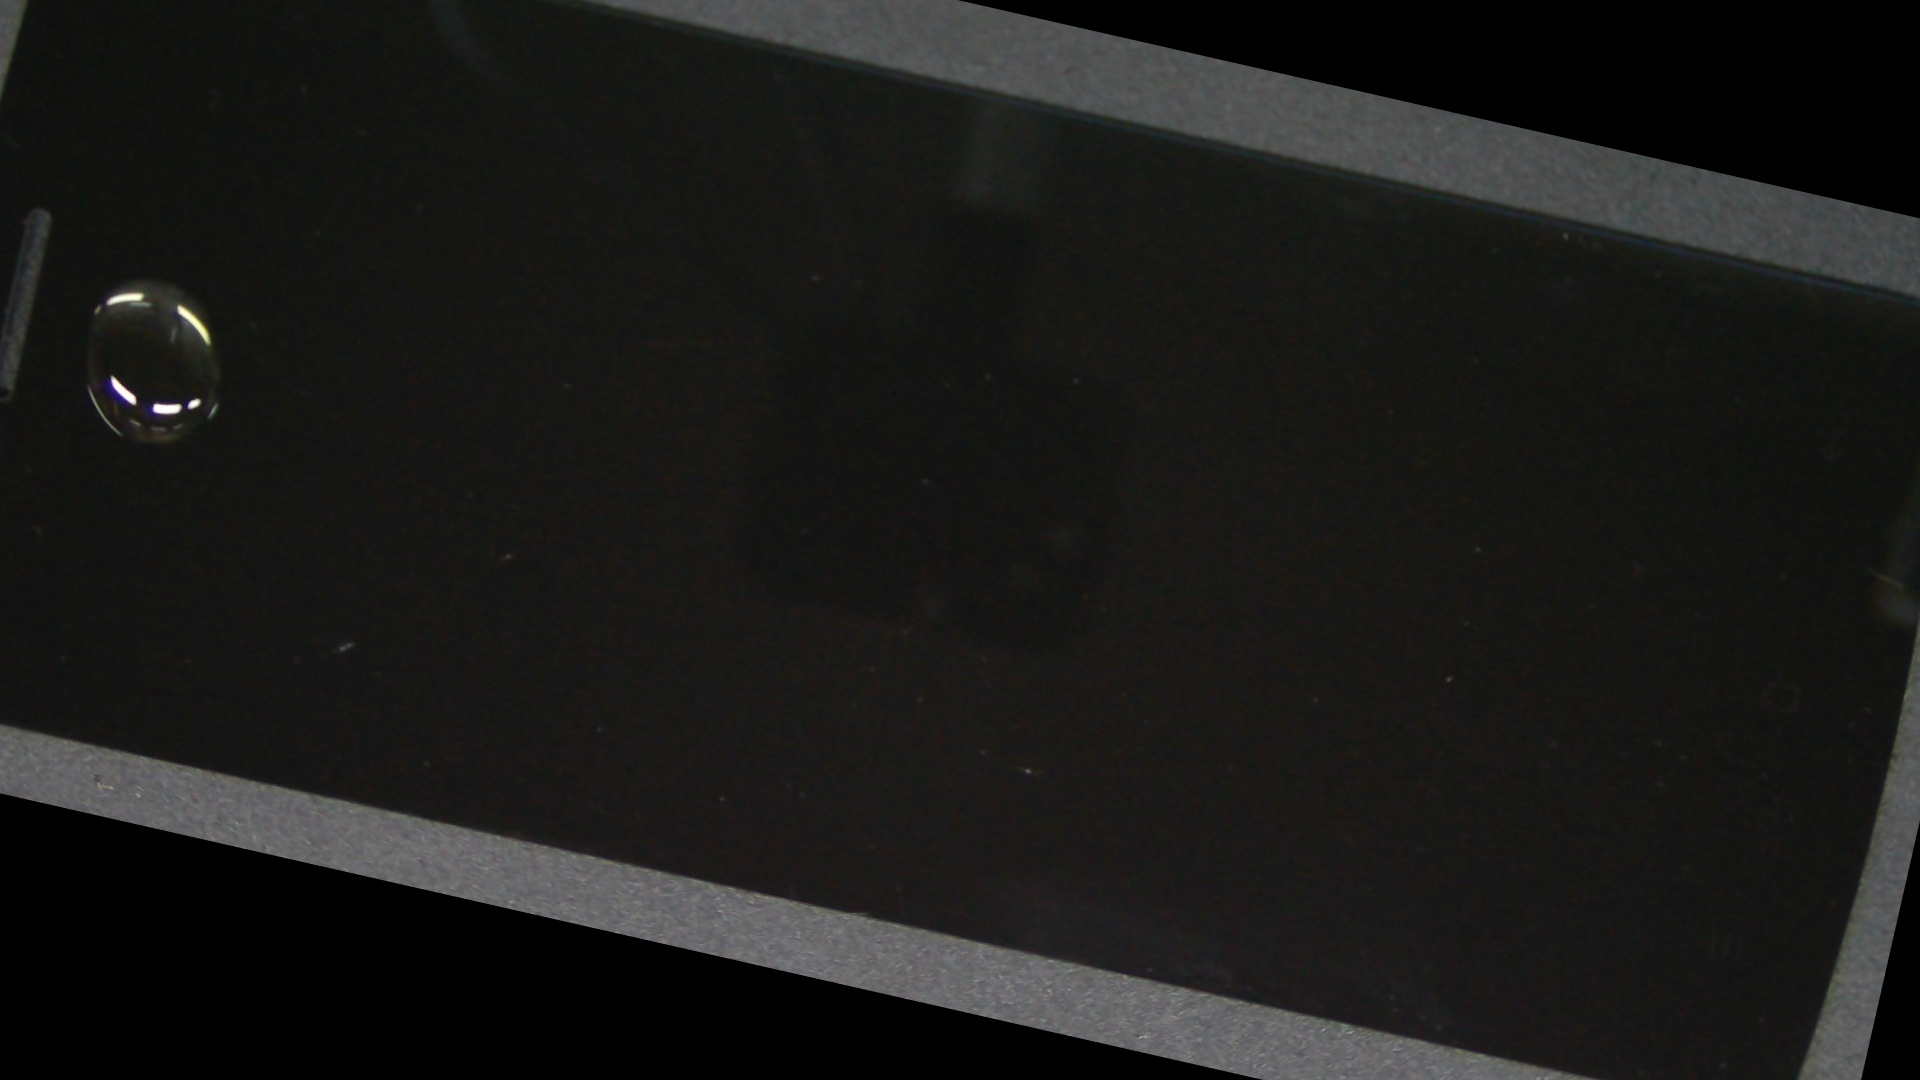oil: (0, 33, 326, 530)
